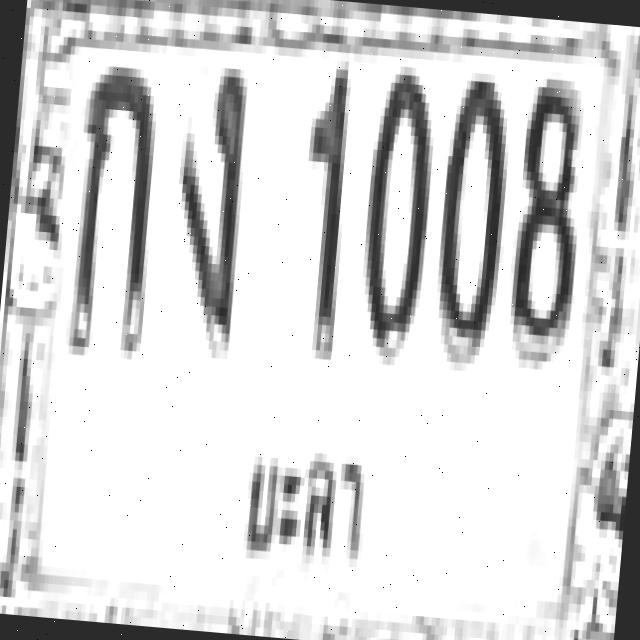0: (352, 68, 436, 354), (427, 70, 511, 356)
1: (288, 58, 352, 350)
10GorGai: (65, 56, 162, 351)
16NgorNgu: (165, 56, 249, 342)
8: (502, 72, 586, 358)
Yala: (238, 428, 374, 585)
